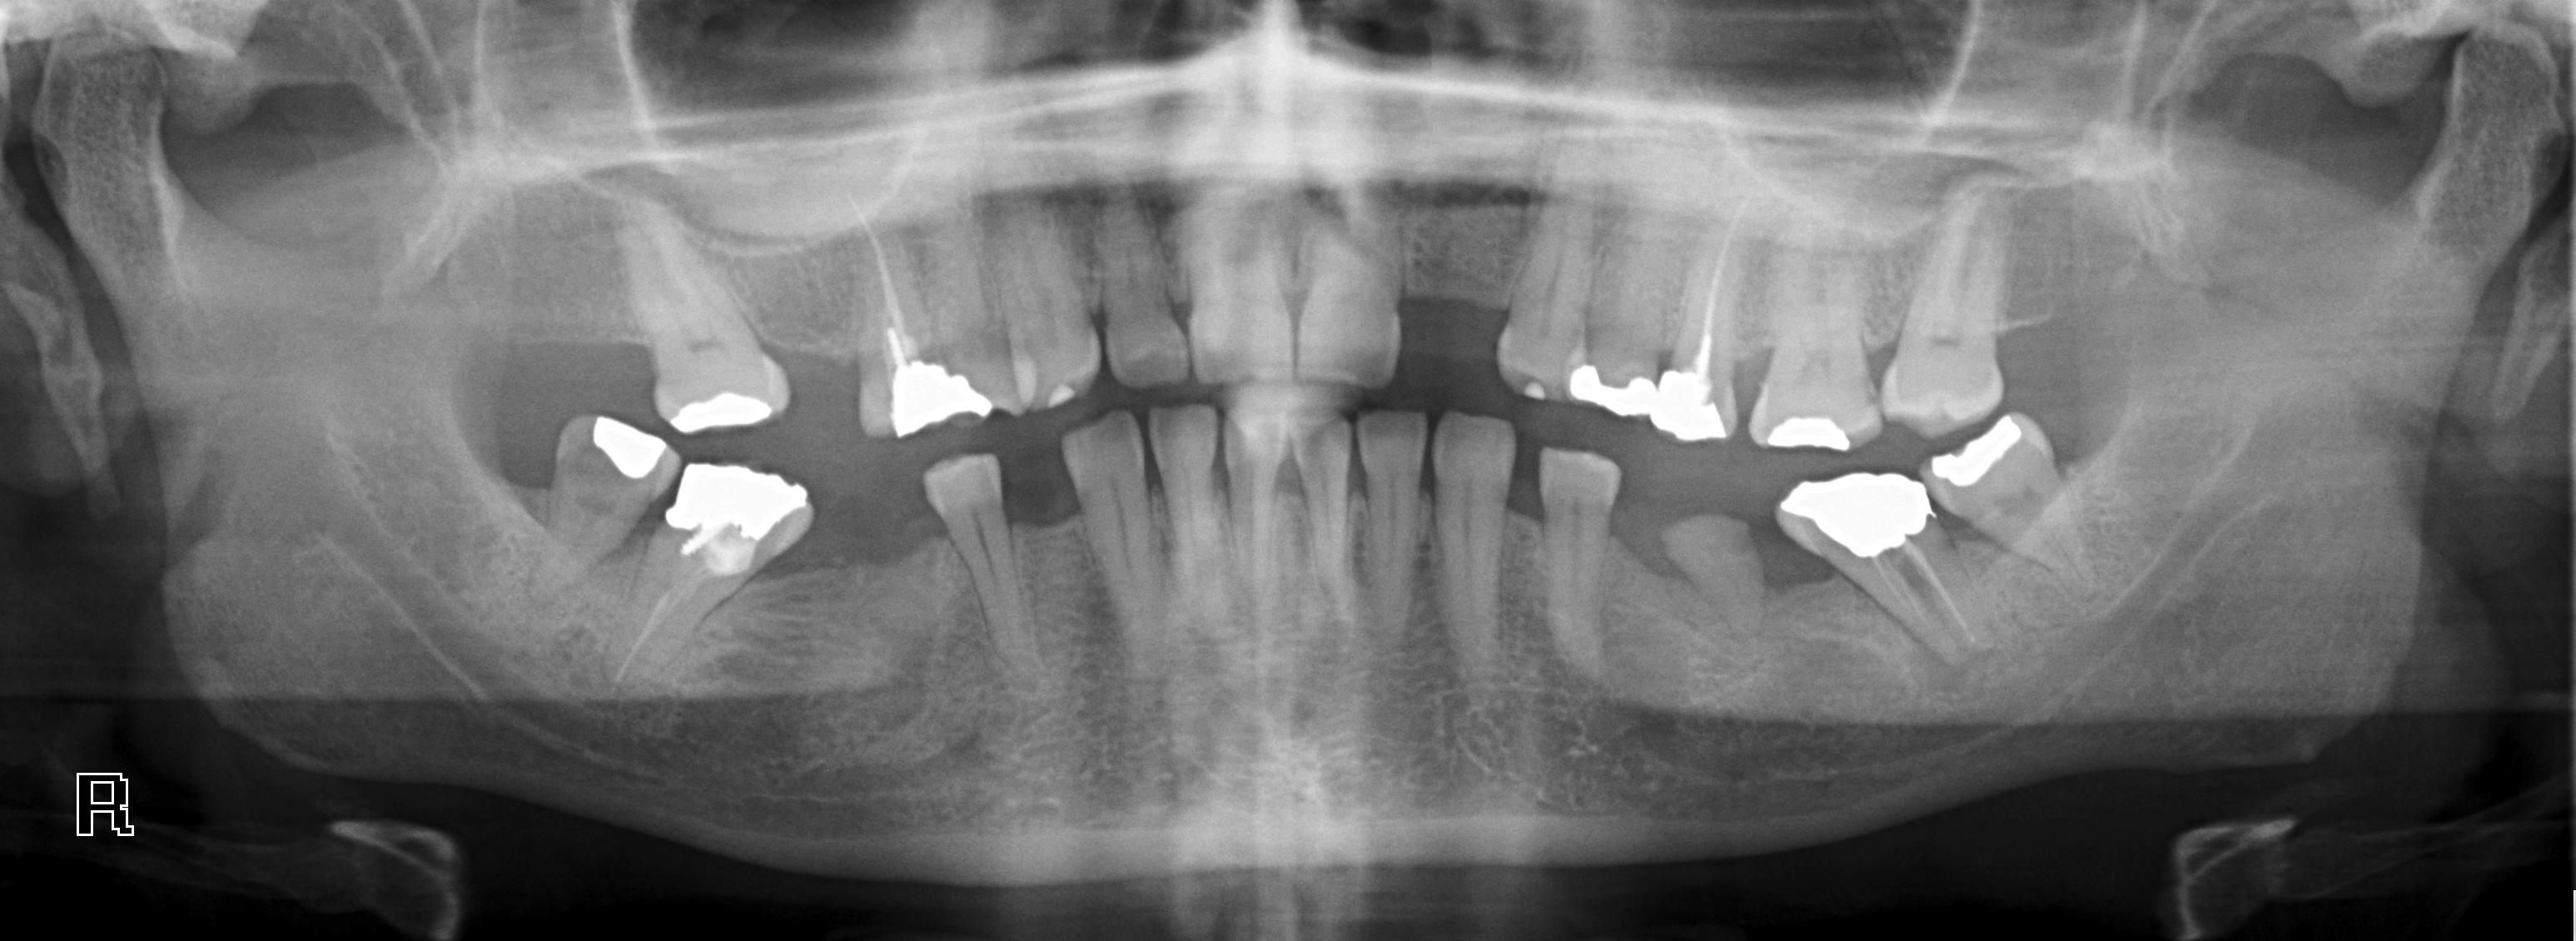Çürük: (1768, 458, 1930, 563), (662, 465, 831, 563), (885, 360, 1004, 442), (1929, 419, 2026, 501), (1648, 366, 1738, 450), (662, 389, 787, 437), (590, 409, 674, 480), (1766, 407, 1870, 457), (1564, 360, 1649, 419), (1051, 384, 1069, 415)
Çürük Bölgesi: (562, 420, 623, 496)
